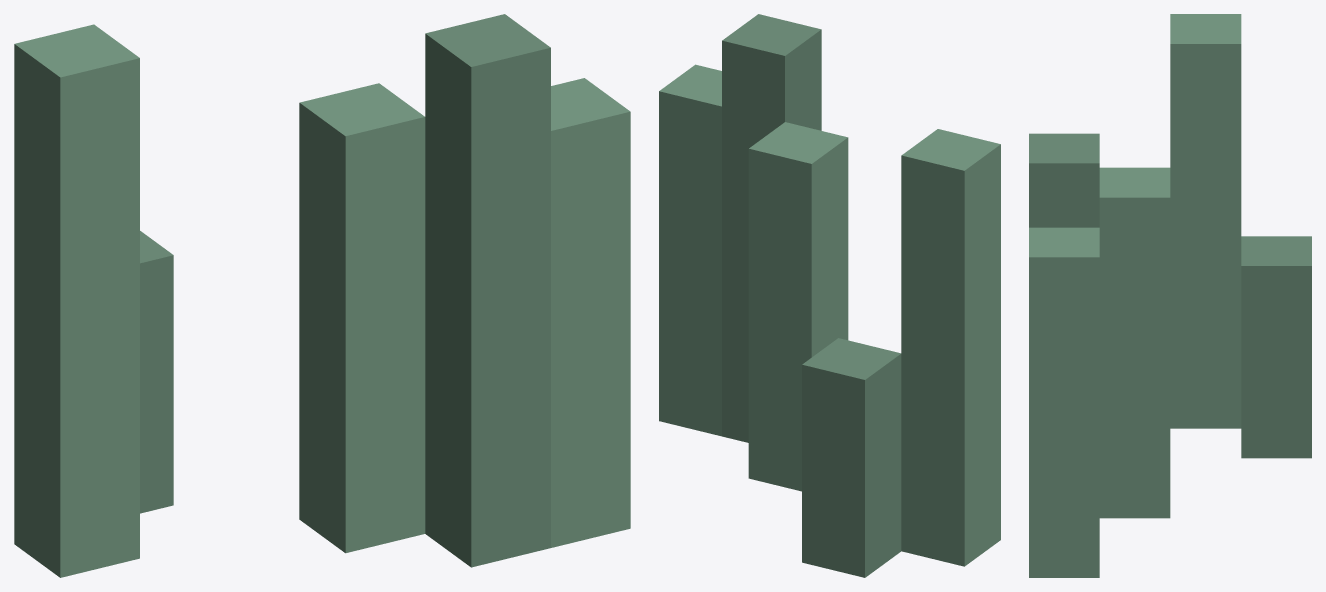
Rendered from algas_varadas_02.glb.
3 views of the same model, side by side, from view 1: azimuth 30°, elevation 25°; view 2: azimuth 150°, elevation 25°; view 3: azimuth 270°, elevation 25° (orthographic). The views are drawn at different scales.
Visible parts, largest first — view 1: algas_varadas_02; view 2: algas_varadas_02; view 3: algas_varadas_02.
Boxes of the visible parts, box(x1,y1,x2,y2) form: algas_varadas_02: box(14, 14, 630, 577); algas_varadas_02: box(659, 14, 1000, 577); algas_varadas_02: box(1029, 14, 1311, 577).
Size of the model in its own units: 0.6 by 0.6 by 0.4.
